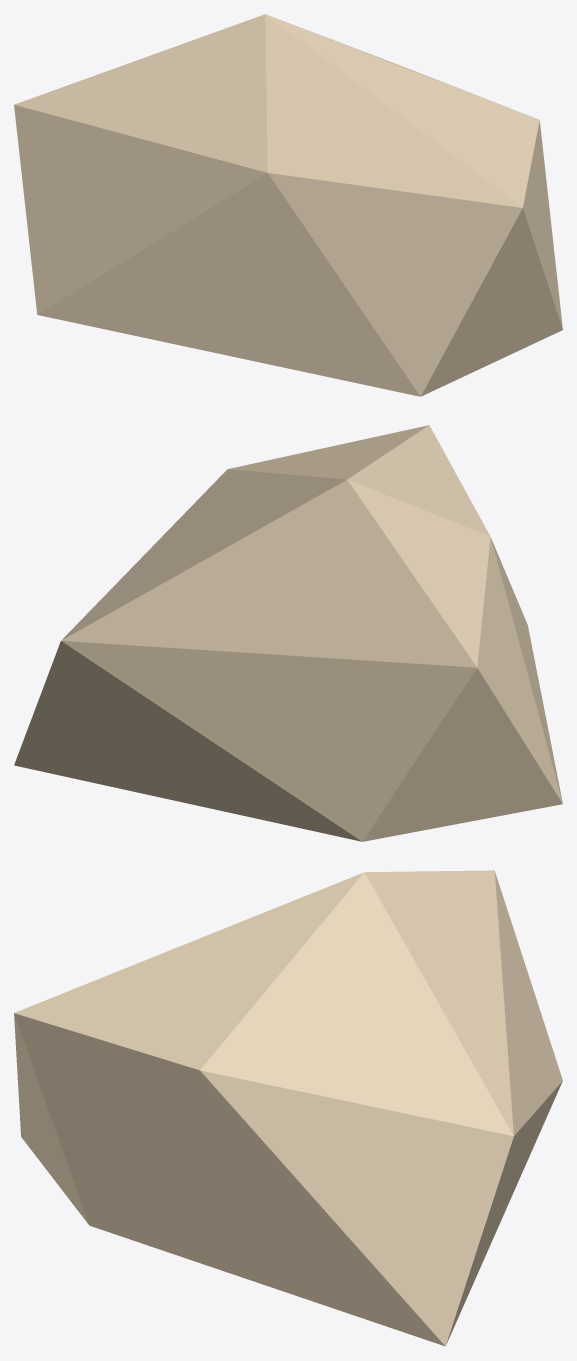
Rendered from rock4.fbx.
The picture shows the model from 3 angles, top to bottom: view 1: azimuth 30°, elevation 25°; view 2: azimuth 150°, elevation 25°; view 3: azimuth 270°, elevation 25°; orthographic projection. The views are drawn at different scales.
Parts seen in each view (by area): view 1: Icosphere.001; view 2: Icosphere.001; view 3: Icosphere.001.
Boxes of the visible parts, <box> form: Icosphere.001: <box>14,14,562,396</box>; Icosphere.001: <box>14,425,562,841</box>; Icosphere.001: <box>14,870,562,1346</box>.
Size of the model in its own units: 202 by 136 by 184.
